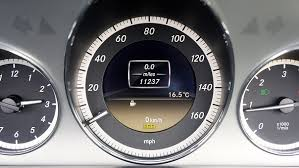Digital_Meter: (130, 77, 173, 86)
